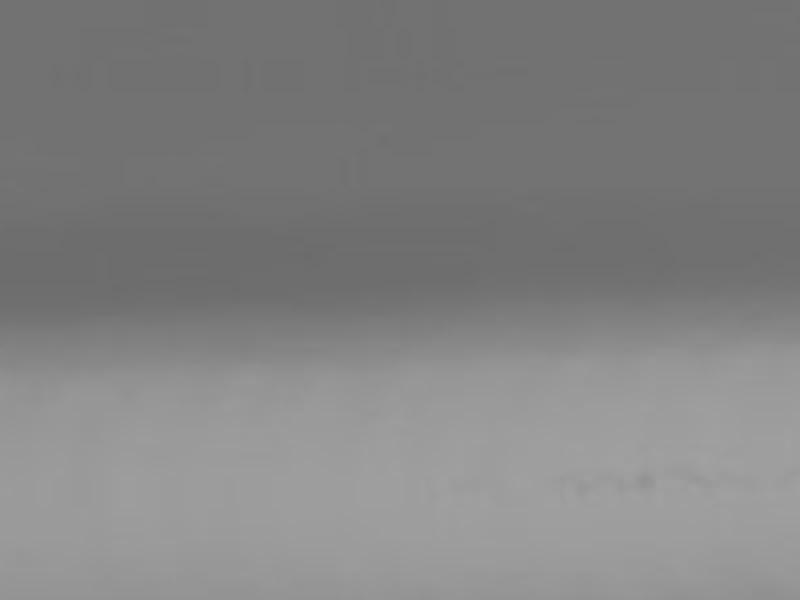defect: (632, 466, 655, 487)
